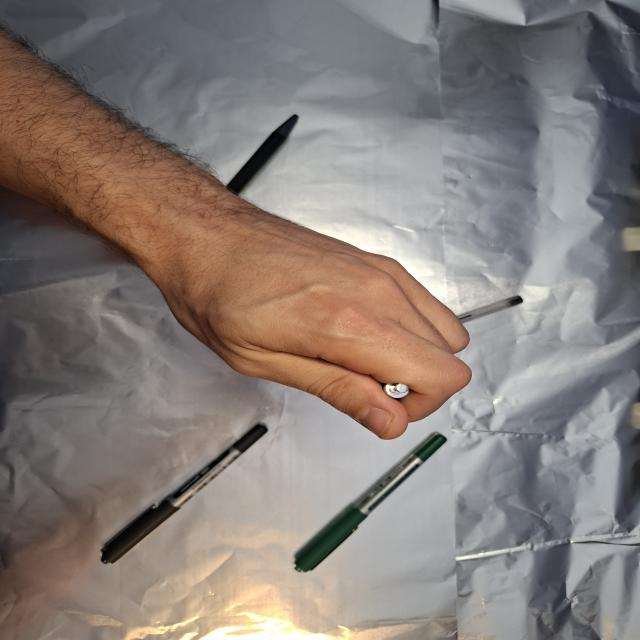glove_off: (125, 204, 474, 441)
